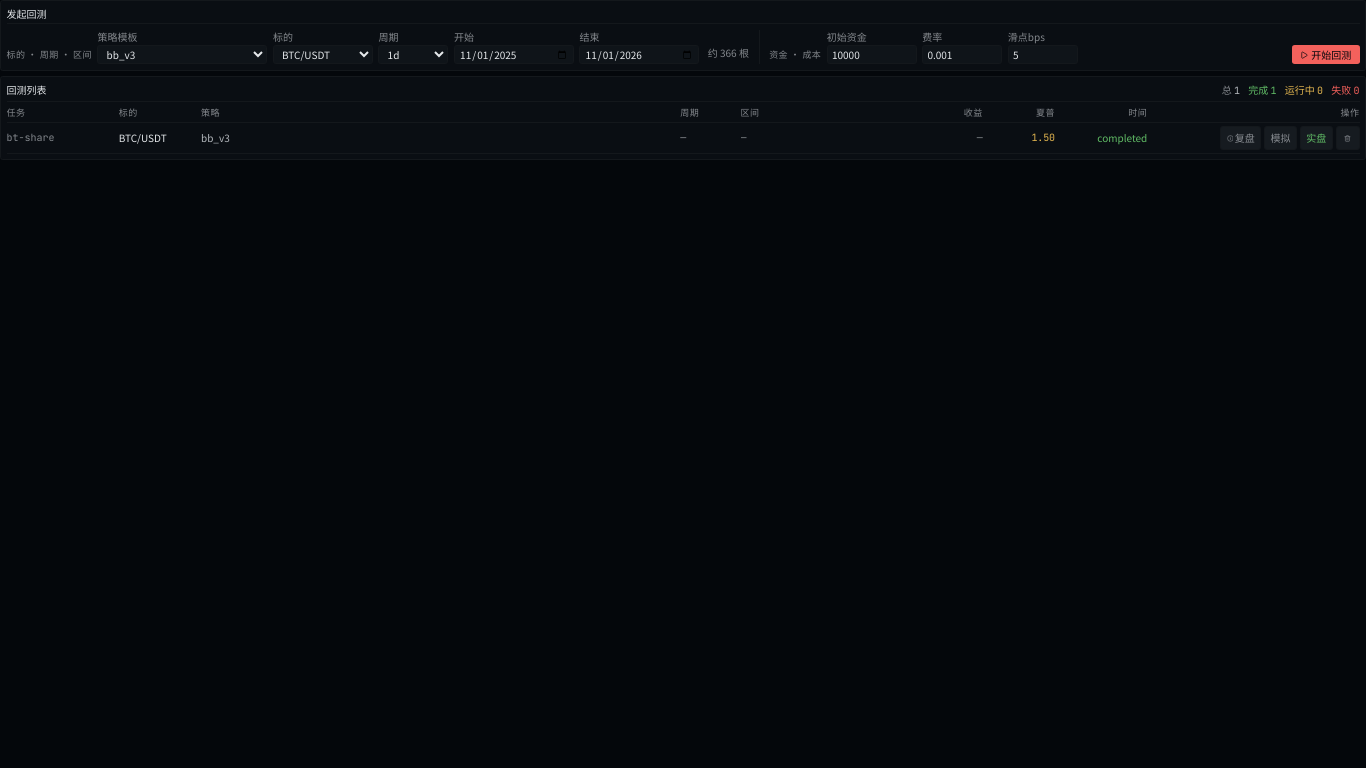
Test: BacktestsPage URL 同步(?task_id= 直达 + 关闭清除) › 点行内「复盘」→ openBacktestDetail 写 URL ?task_id=
Step 1. Click the button "复盘" → point(1241, 138), box left=1220, top=126, right=1261, bottom=150
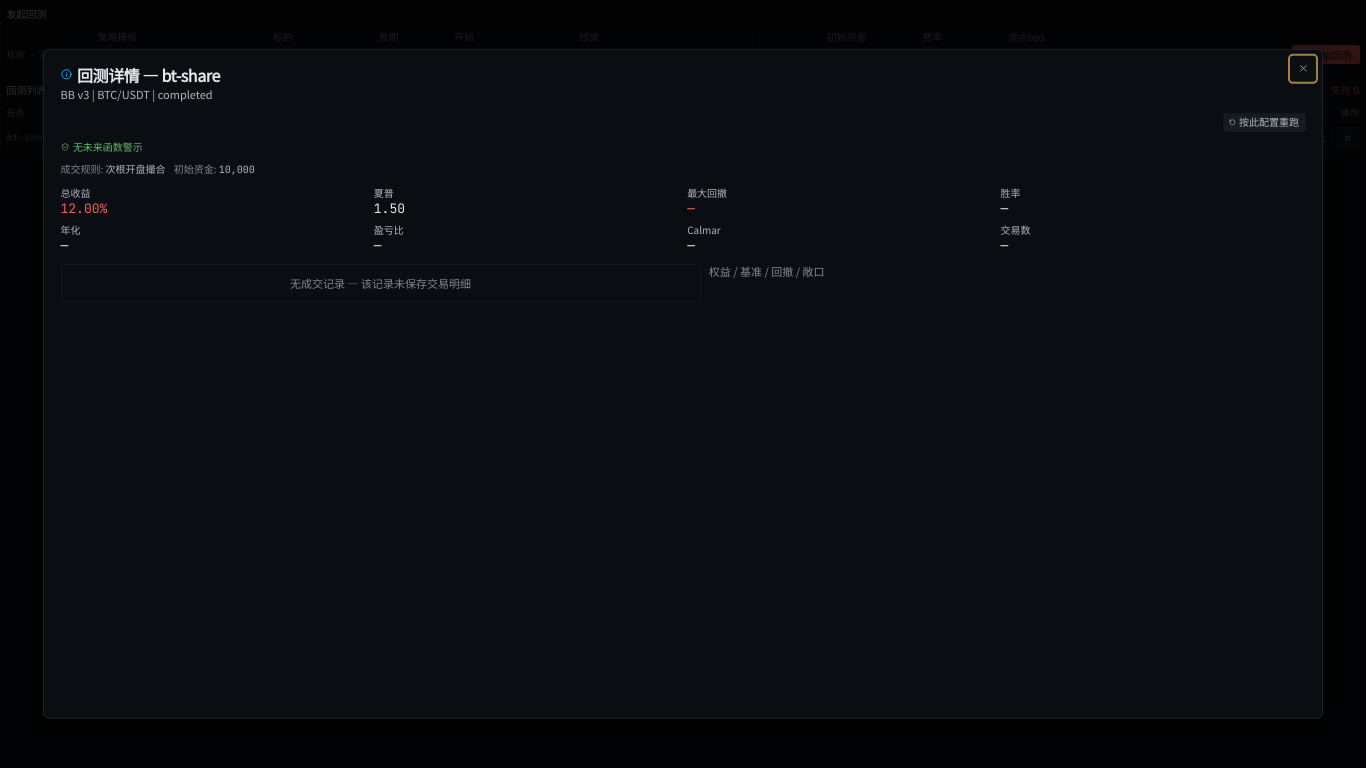
Expected: the heading "回测详情 — bt-share" is shown, left=60, top=62, right=220, bottom=86
